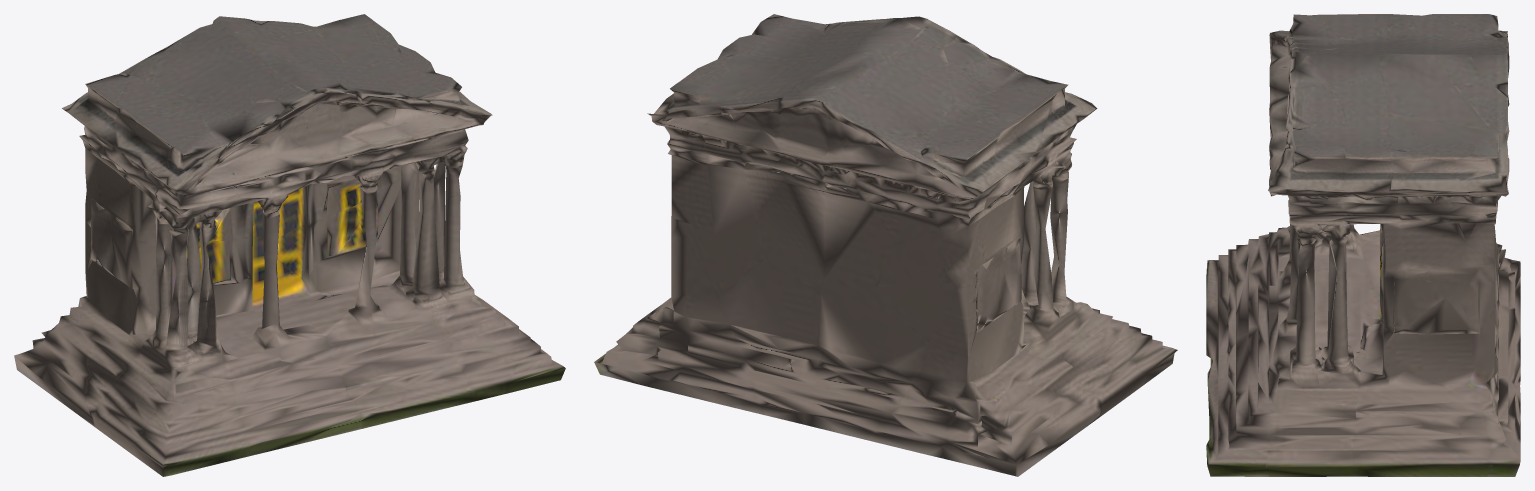
The model's file is co_bank_p.glb.
The picture shows the model from 3 angles, left to right: view 1: azimuth 30°, elevation 25°; view 2: azimuth 150°, elevation 25°; view 3: azimuth 270°, elevation 25°; orthographic projection. The views are drawn at different scales.
Size of the model in its own units: 1.9 by 1.4 by 1.23.
1 material, 1 textured.
